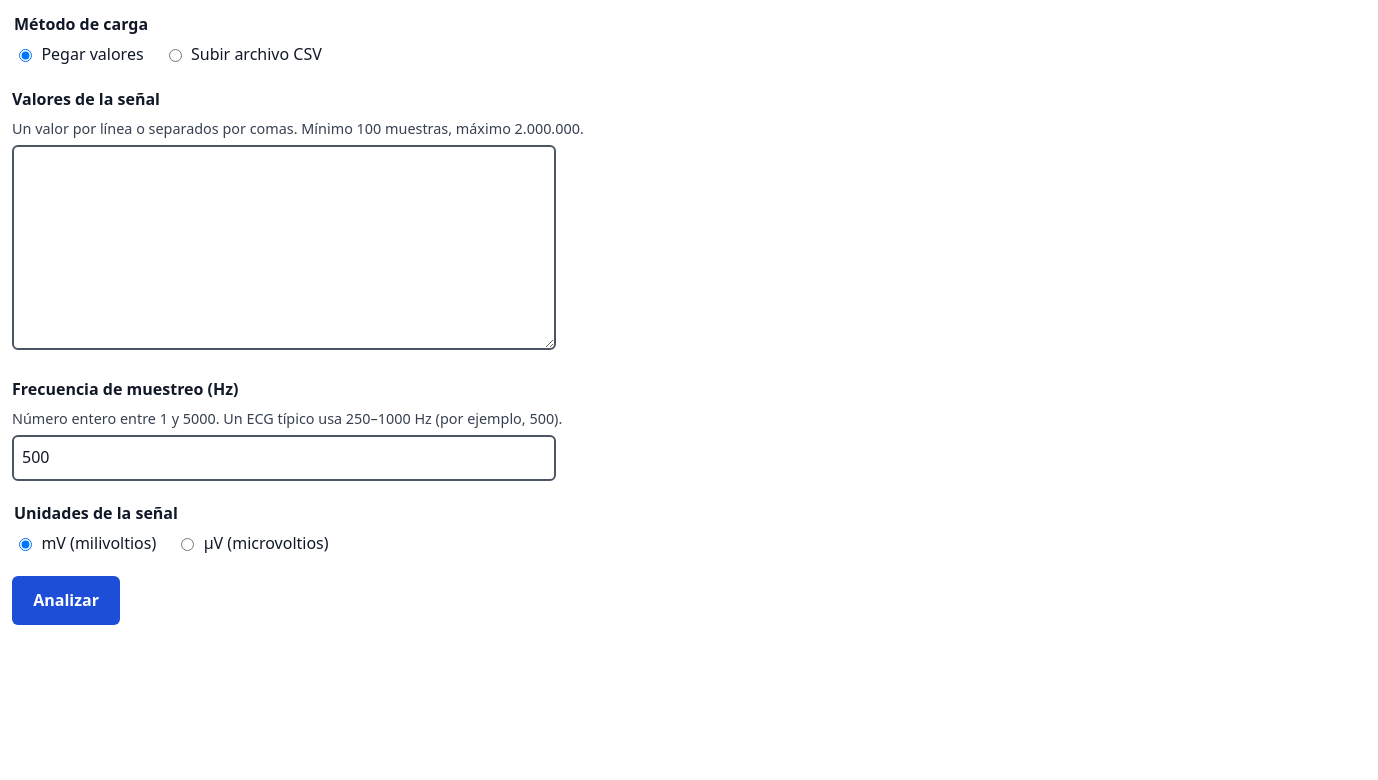
EcgForm › valida el formulario y anuncia errores (aria-invalid, aria-describedby)
Click the button "Analizar" at (66, 601), box [12,576,120,625]
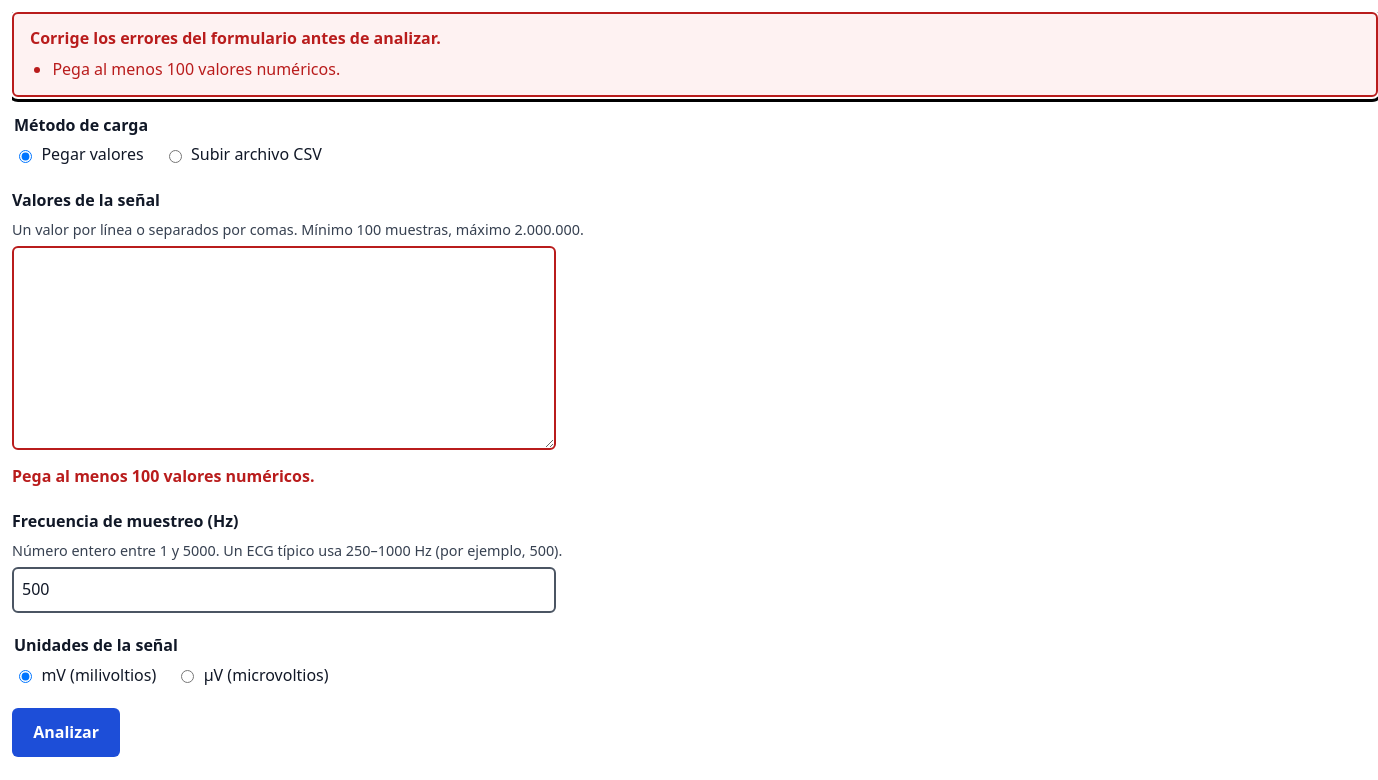
Expected: the message shows "Corrige los errores", [30,27,441,49]
Expected: the message shows "Pega al menos 100 valores", [52,58,340,80]
Expected: the text "Pega al menos 100 valores numéricos." is shown, [12,464,314,486]
